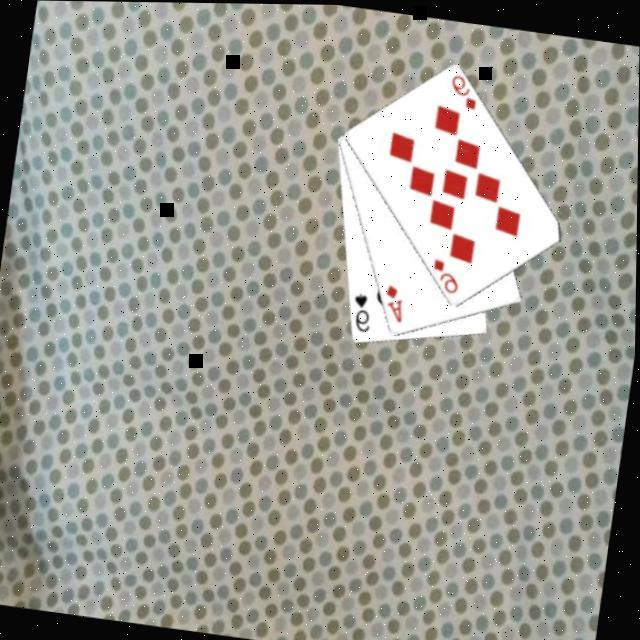6S: (349, 288, 379, 334)
9D: (446, 69, 484, 111), (429, 253, 466, 295)
AD: (380, 278, 412, 324)
